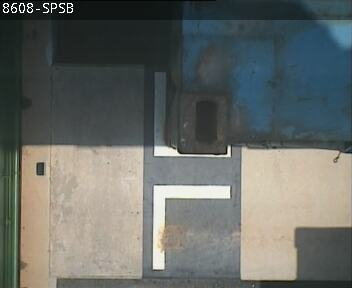groundmarker_1: (152, 70, 231, 270)
